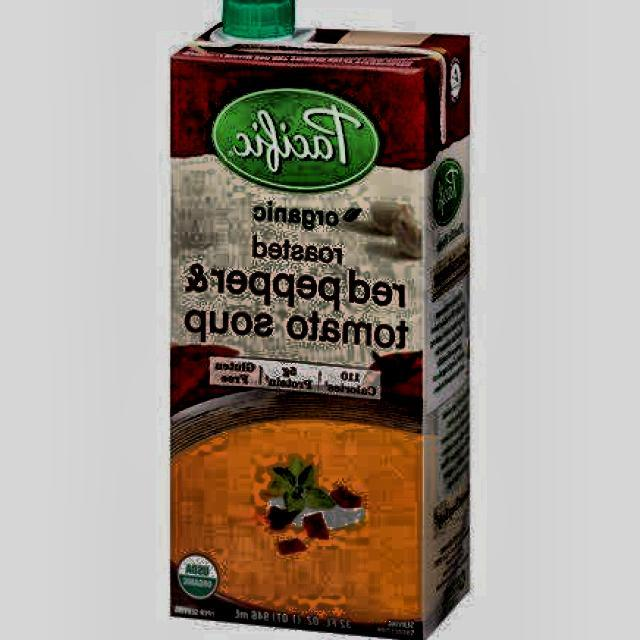cardboard: (169, 11, 473, 640)
